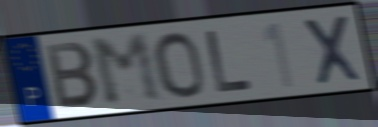1: (262, 21, 295, 89)
B: (43, 40, 103, 111)
L: (202, 28, 256, 96)
M: (87, 31, 167, 110)
O: (150, 29, 208, 100)
X: (299, 12, 365, 88)
